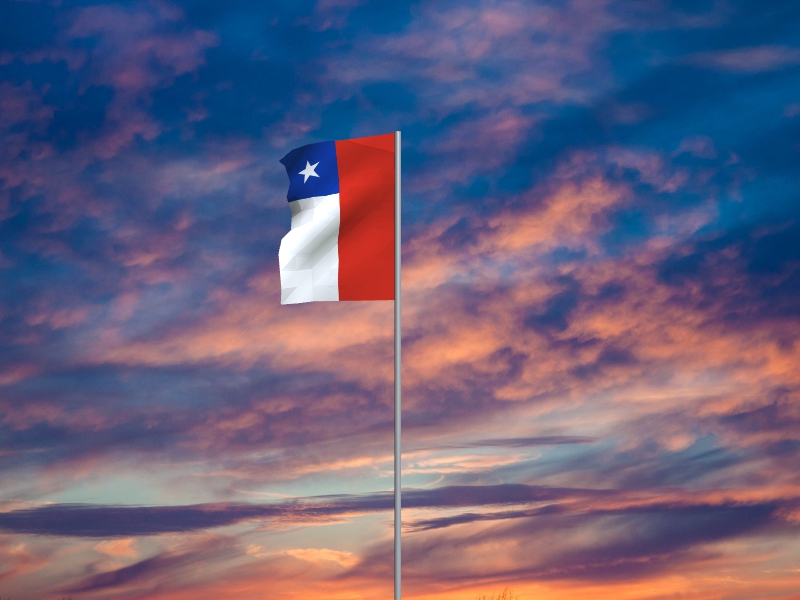cl: (278, 133, 395, 306)
